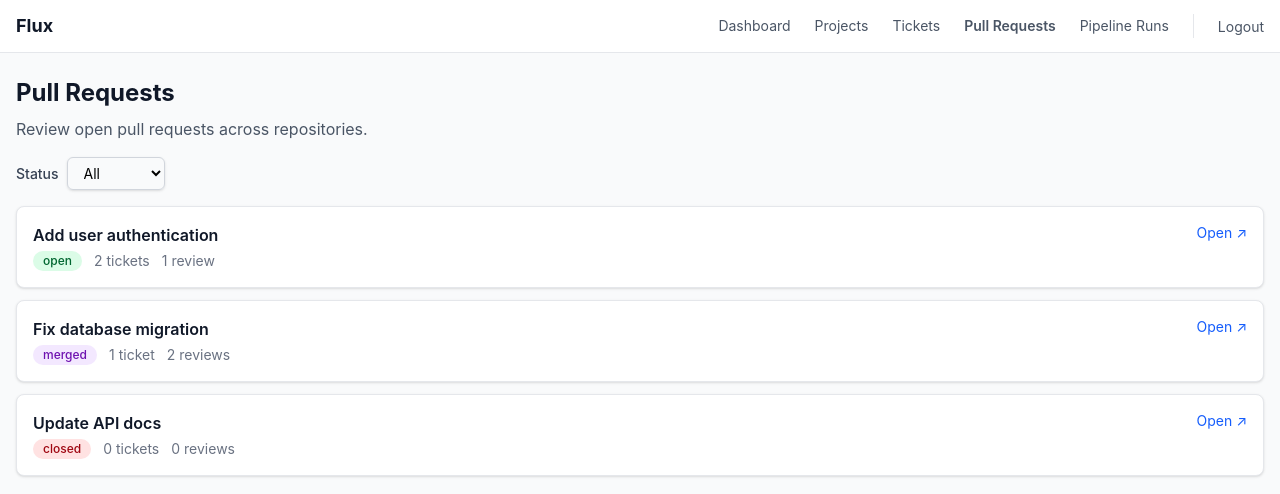
Test case: PullRequestsPage › changes the filter when the status dropdown is used
Expected: the heading "Add user authentication" is shown, 33,225 -> 218,245
// Change filter to "merged"
Select "Merged" in the dropdown labelled "Status" at (116, 174), box 67,157 -> 165,190
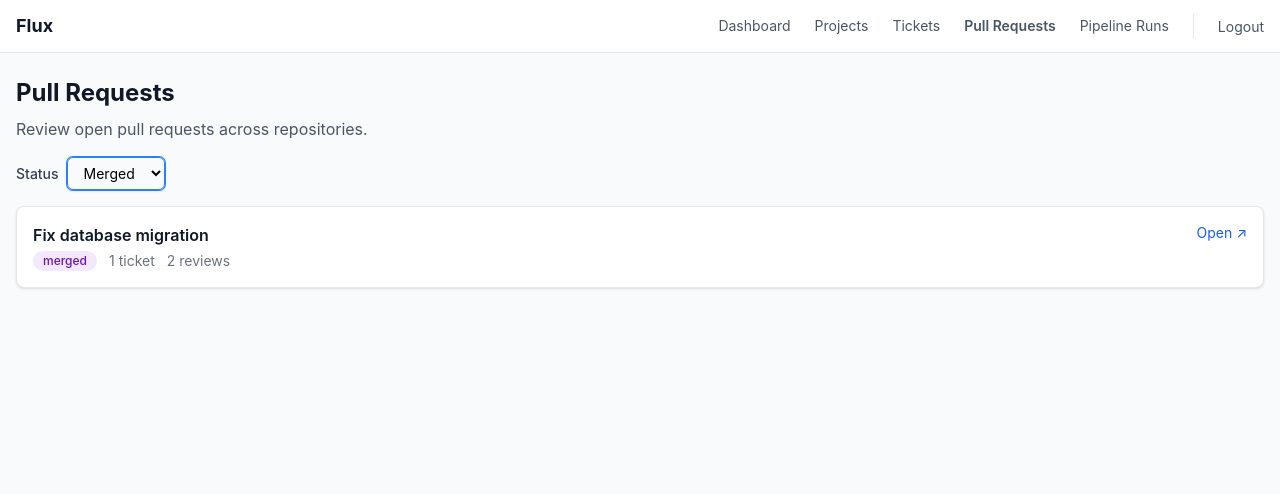
Expected: the heading "Fix database migration" is shown, 33,225 -> 209,245
Now the heading "Add user authentication" is gone
